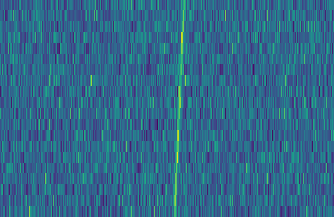signal: (169, 0, 188, 217)
